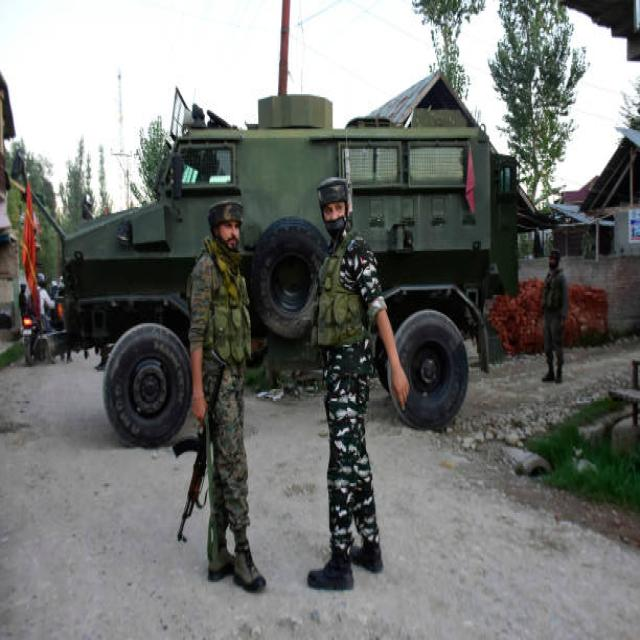LMV: (61, 71, 549, 445)
civilian: (29, 271, 55, 363)
soldier: (307, 177, 409, 588), (189, 202, 265, 588), (542, 253, 567, 382)
